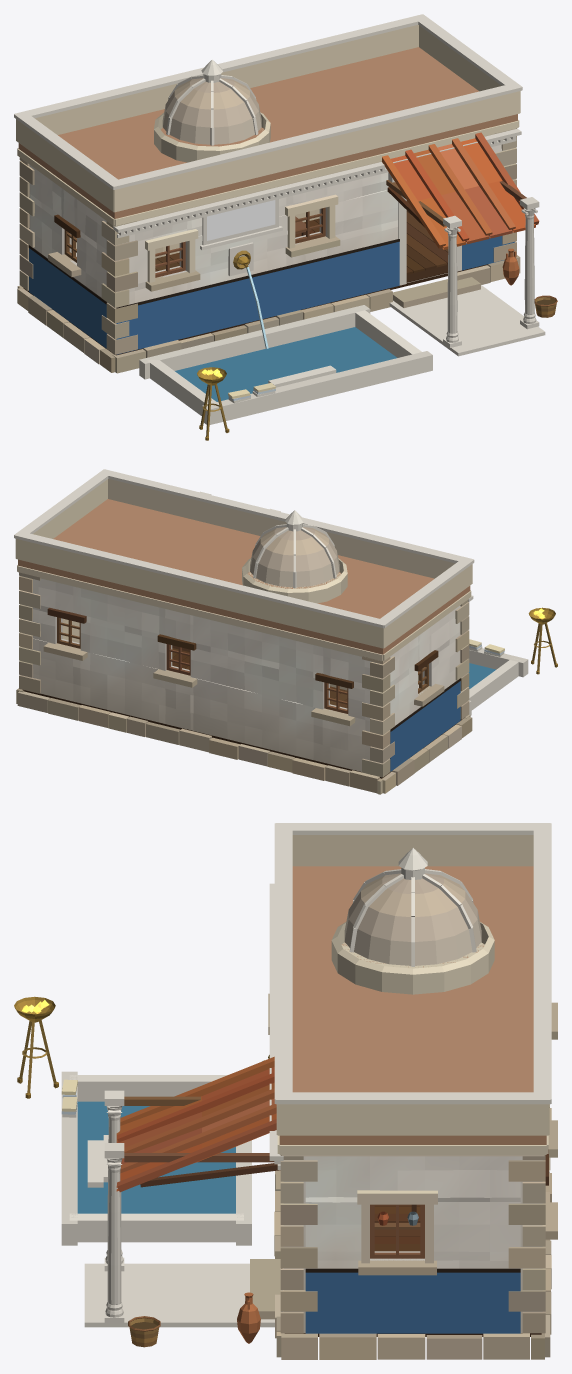
File: civ_balnea.glb
3 renders of one model, top to bottom at view 1: azimuth 30°, elevation 25°; view 2: azimuth 150°, elevation 25°; view 3: azimuth 270°, elevation 25°, orthographic. The views are drawn at different scales.
Parts seen in each view (by area): view 1: House, Walls, Rooms; view 2: House, Walls, Rooms; view 3: House, Walls, Rooms.
Boxes of the visible parts, x1=… form: House: x1=14, y1=14, x2=557, y2=440; Walls: x1=28, y1=144, x2=512, y2=334; Rooms: x1=76, y1=200, x2=448, y2=274; House: x1=14, y1=469, x2=557, y2=794; Walls: x1=22, y1=576, x2=460, y2=771; Rooms: x1=62, y1=618, x2=418, y2=708; House: x1=14, y1=823, x2=557, y2=1359; Walls: x1=284, y1=1156, x2=542, y2=1332; Rooms: x1=374, y1=1204, x2=420, y2=1251.
Bounding box in the file's own units: 6.71 × 3.73 × 5.47.
8 materials, 8 textured.
